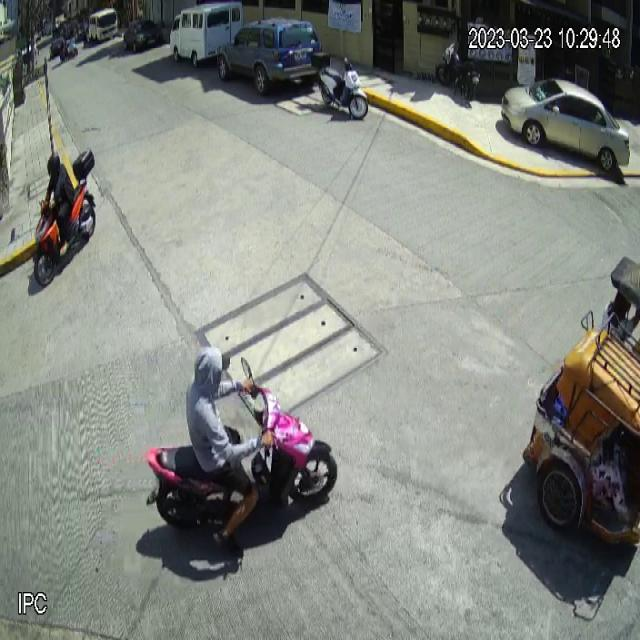Car: (501, 77, 631, 173), (216, 16, 323, 98)
Motorcycle: (146, 355, 339, 540), (311, 51, 368, 120)
Tricycle: (519, 254, 640, 549)
Van: (169, 0, 243, 68)
